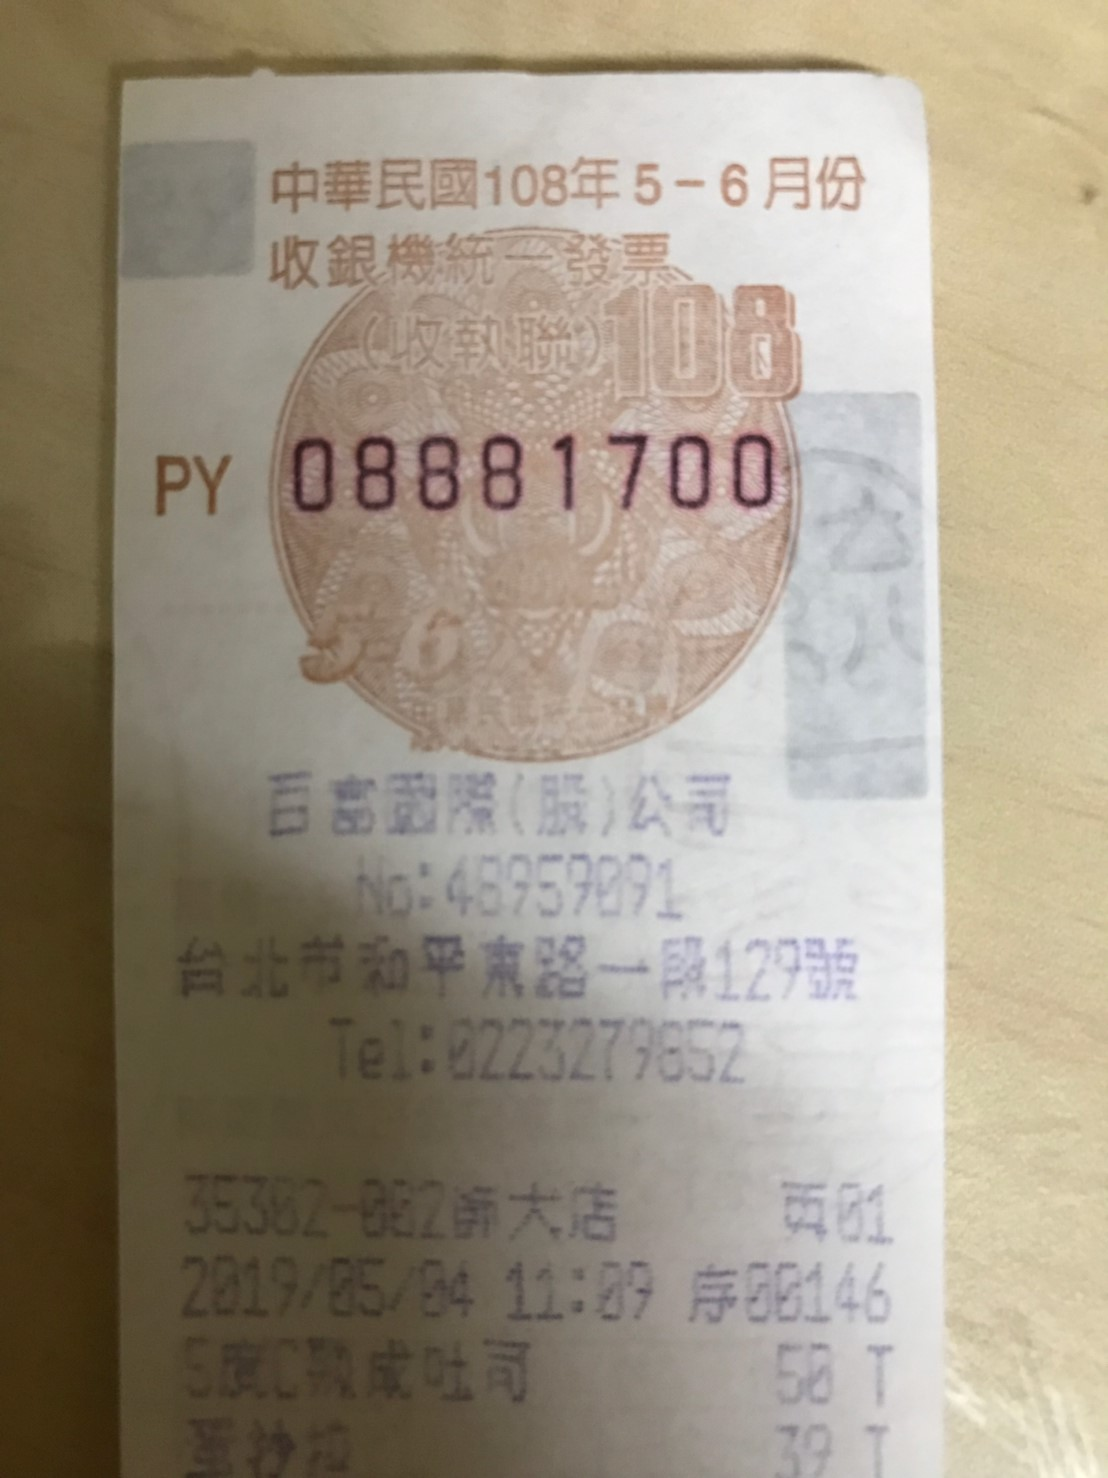Date_Old: (480, 155, 869, 219)
Number_Old: (289, 422, 783, 516)
